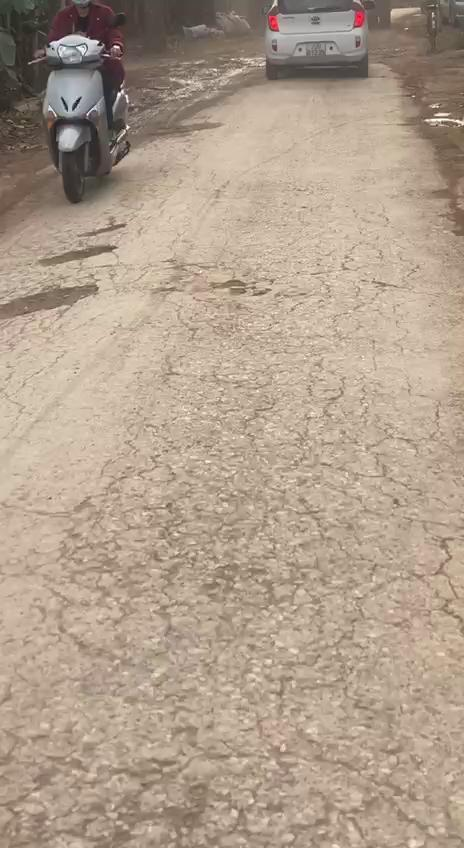pothole: (0, 276, 105, 328), (38, 228, 130, 272)
